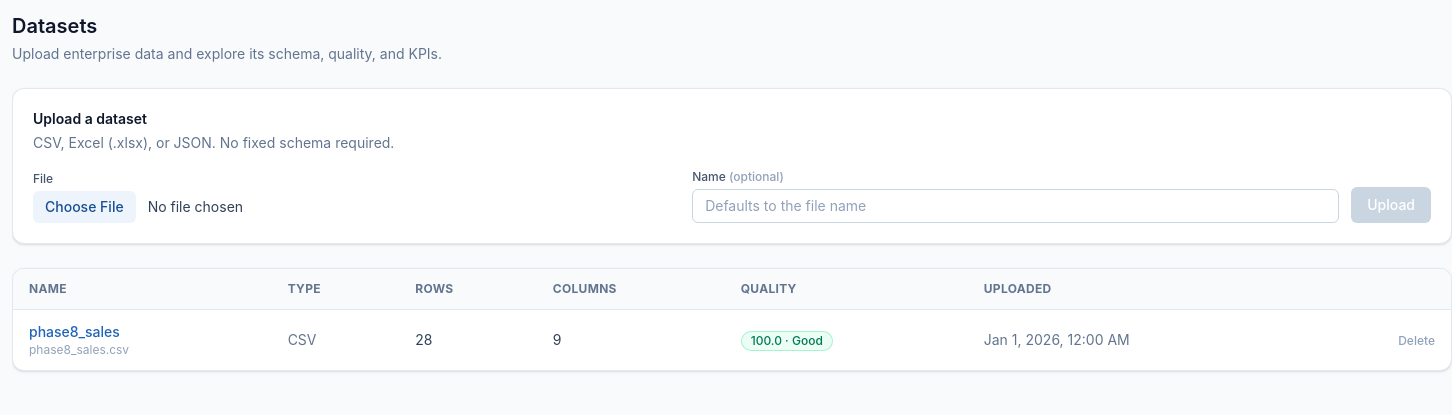
Test: DatasetsPage › deletes a dataset (Admin has dataset:delete) and refreshes the list
Check: the link "phase8_sales" is shown, box [29, 323, 120, 340]
Click the button "Delete" at coordinates (1417, 341), box [1398, 333, 1435, 349]
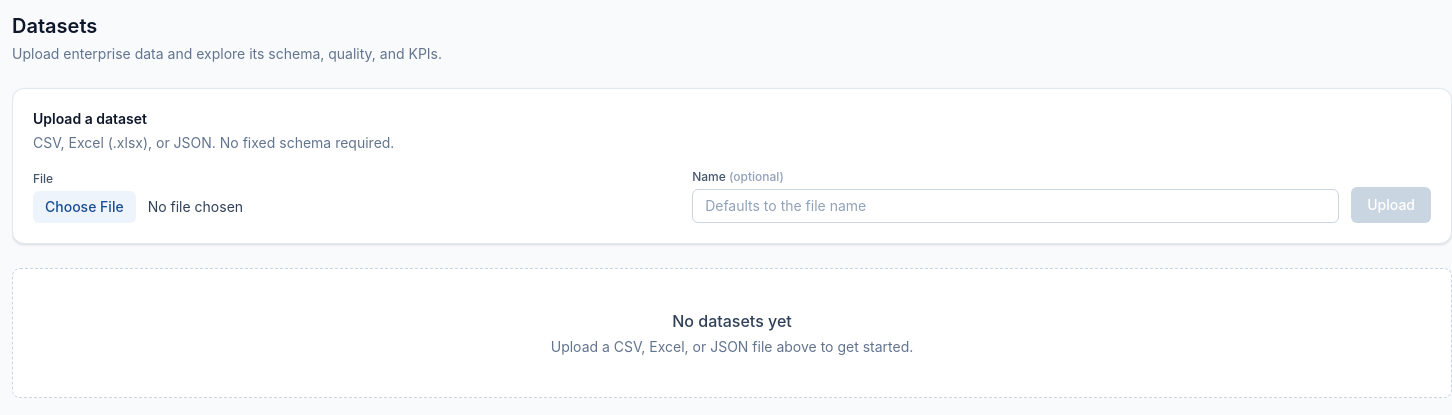
Check: the text "No datasets yet" is shown, box [672, 311, 792, 331]
